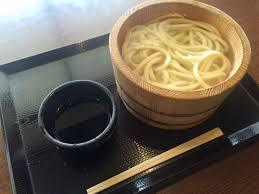kamaage: (108, 1, 255, 136)
